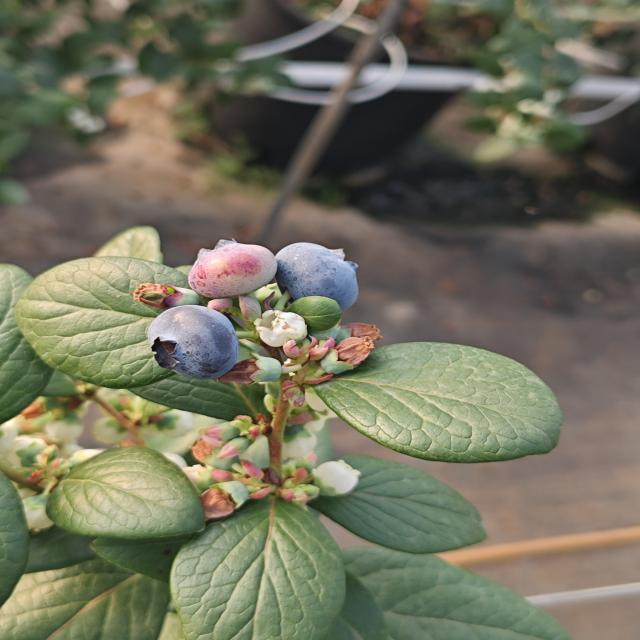ripe: (144, 303, 242, 383), (272, 240, 362, 312)
